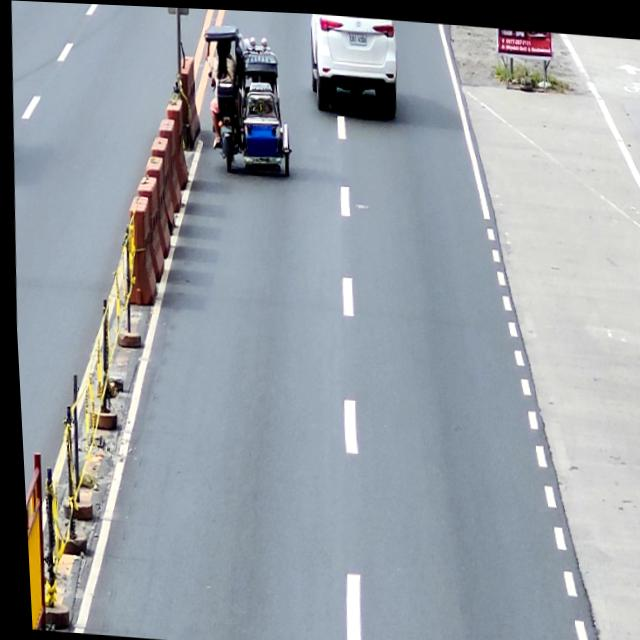Car: (306, 11, 400, 116)
License-Plate: (347, 29, 368, 43), (219, 120, 231, 132)
Tricycle: (198, 21, 296, 177)
